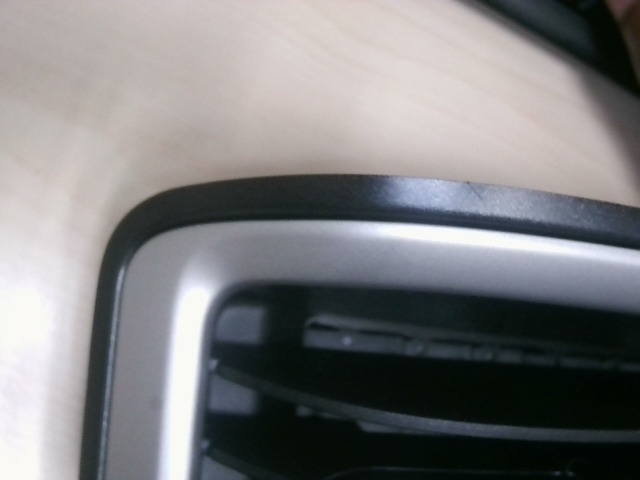NG: (457, 172, 489, 209)
